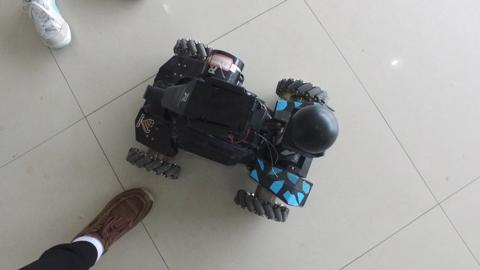chariot: (119, 23, 347, 220)
